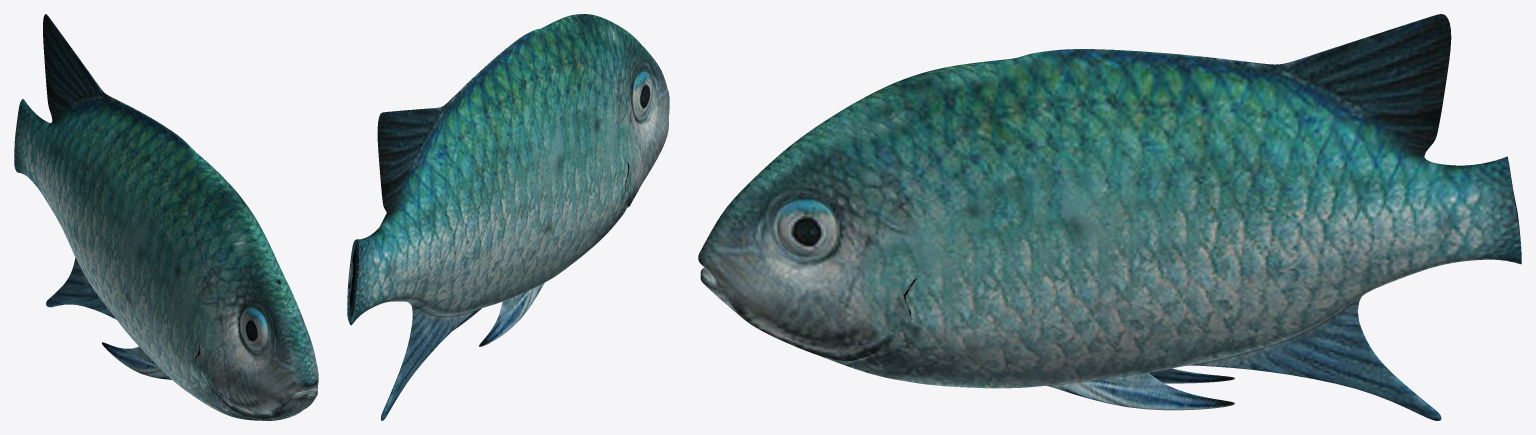
Rendered from CuerpoPezAzul.obj.
3 renders of one model, left to right at view 1: azimuth 30°, elevation 25°; view 2: azimuth 150°, elevation 25°; view 3: azimuth 270°, elevation 25°, orthographic. The views are drawn at different scales.
Visible parts, largest first — view 1: Cuerpo; view 2: Cuerpo; view 3: Cuerpo.
Part boxes in pixels (bbox=[...]): Cuerpo: bbox=[14, 14, 318, 420]; Cuerpo: bbox=[347, 14, 669, 420]; Cuerpo: bbox=[698, 14, 1521, 420].
Bounding box in the file's own units: 0.9594 × 3.26 × 5.98.
1 material, 1 textured.
